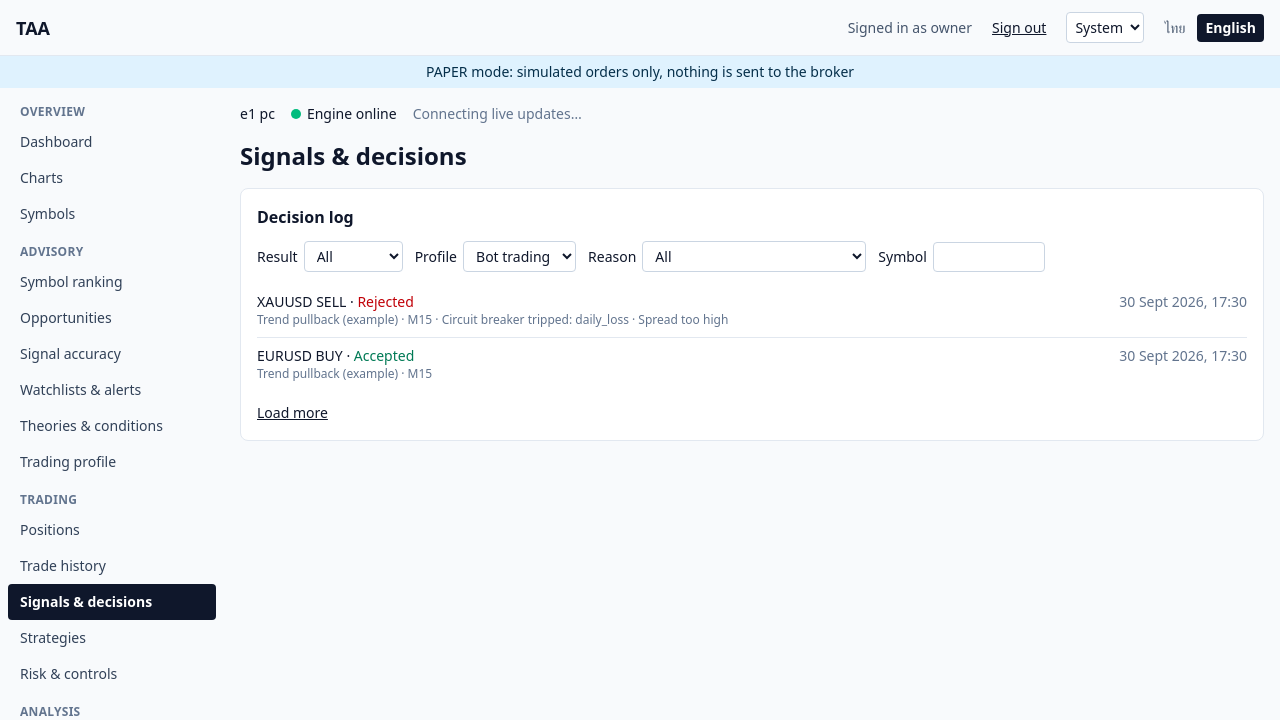
signals & decisions page › opens a decision with every check, its measured value and threshold
Click the button "XAUUSD SELL". click: [285, 302]
box: 257,292 -> 1247,328
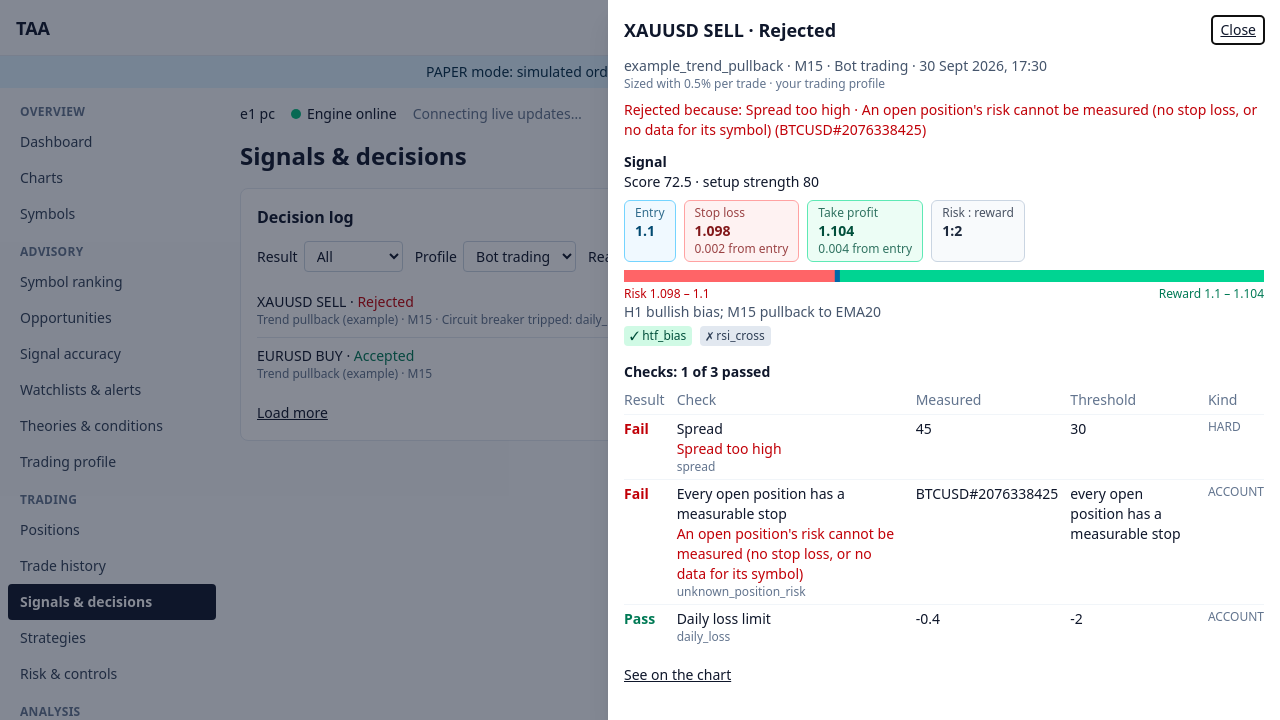
Now the heading "Checks: 1 of 3 passed" is shown, box 624,362 -> 770,381
Now the text "Sized with 0.5% per trade · your trading profile" is shown, box 624,75 -> 885,92
Now the message shows "Rejected because: Spread too high · An open position's risk cannot be measured (no stop loss, or no data for its symbol) (BTCUSD#2076338425)", box 624,100 -> 1257,139
Press Escape
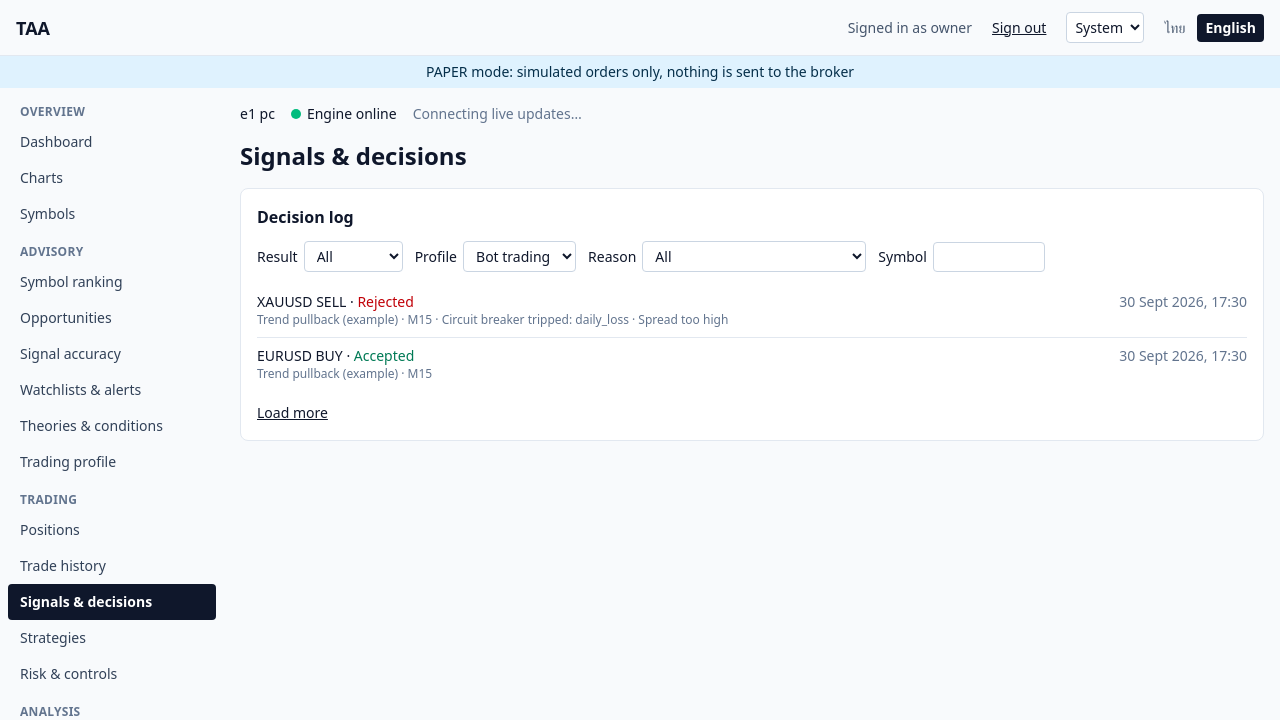
Now the dialog is gone
